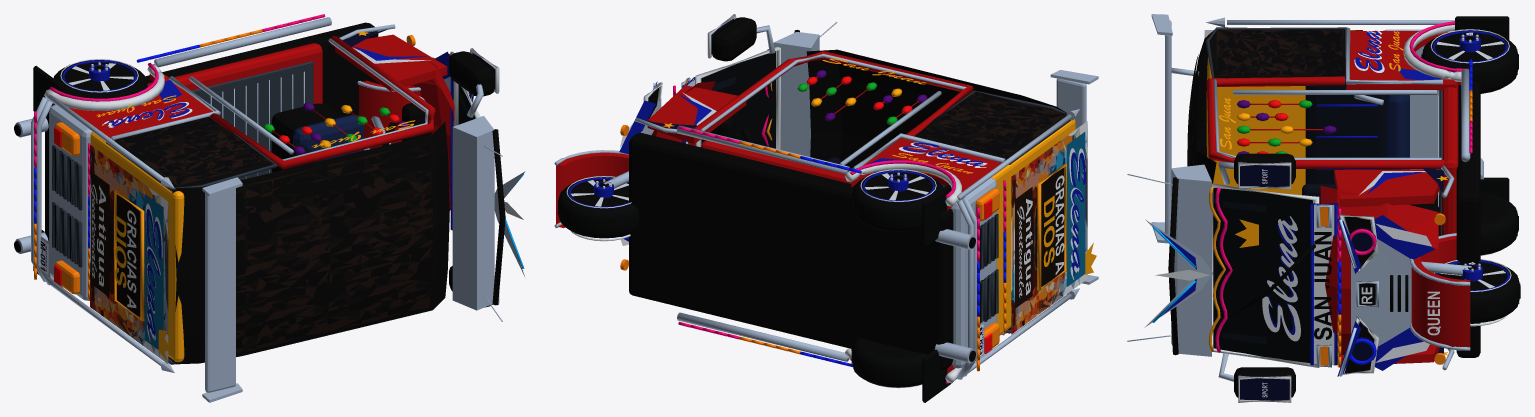
The model's file is 01-tuk-tuk-elena-medium.obj.
3 views of the same model, side by side, from view 1: azimuth 30°, elevation 25°; view 2: azimuth 150°, elevation 25°; view 3: azimuth 270°, elevation 25° (orthographic). The views are drawn at different scales.
Visible parts, largest first — view 1: 01-tuk-tuk-elena-medium; view 2: 01-tuk-tuk-elena-medium; view 3: 01-tuk-tuk-elena-medium.
Part boxes in pixels (left/top/right/bottom): 01-tuk-tuk-elena-medium: left=14, top=14, right=525, bottom=402; 01-tuk-tuk-elena-medium: left=554, top=14, right=1098, bottom=402; 01-tuk-tuk-elena-medium: left=1127, top=14, right=1520, bottom=402.
Size of the model in its own units: 3.35 by 1.76 by 2.6.
